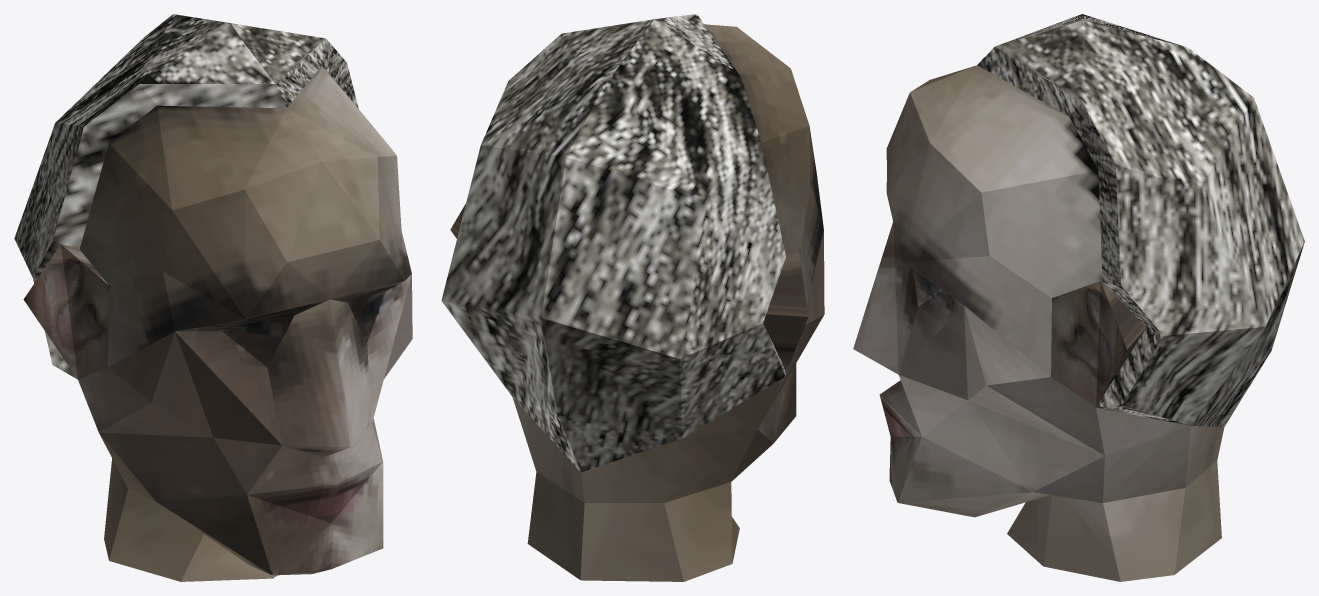
Rendered from testface3.FBX.
The picture shows the model from 3 angles, left to right: view 1: azimuth 30°, elevation 25°; view 2: azimuth 150°, elevation 25°; view 3: azimuth 270°, elevation 25°; orthographic projection. The views are drawn at different scales.
Visible parts, largest first — view 1: Object006, Object005, Object008, Object007; view 2: Object005, Object008, Object006, Box007; view 3: Object006, Object005, Object008, Object007, Box007.
Boxes of the visible parts, box(x1,y1,x2,y2) form: Object006: box(78, 66, 412, 575); Object005: box(14, 14, 358, 379); Object008: box(99, 433, 277, 581); Object007: box(23, 244, 109, 379); Object005: box(441, 14, 786, 472); Object008: box(512, 377, 783, 581); Object006: box(612, 24, 824, 443); Box007: box(450, 203, 808, 371); Object006: box(853, 65, 1104, 502); Object005: box(977, 14, 1304, 426); Object008: box(899, 407, 1224, 581); Object007: box(1051, 281, 1126, 407); Box007: box(1097, 281, 1146, 405).
Bounding box in the file's own units: 0.3374 × 0.4605 × 0.3654.
Materials: 3 (3 with a texture image).
